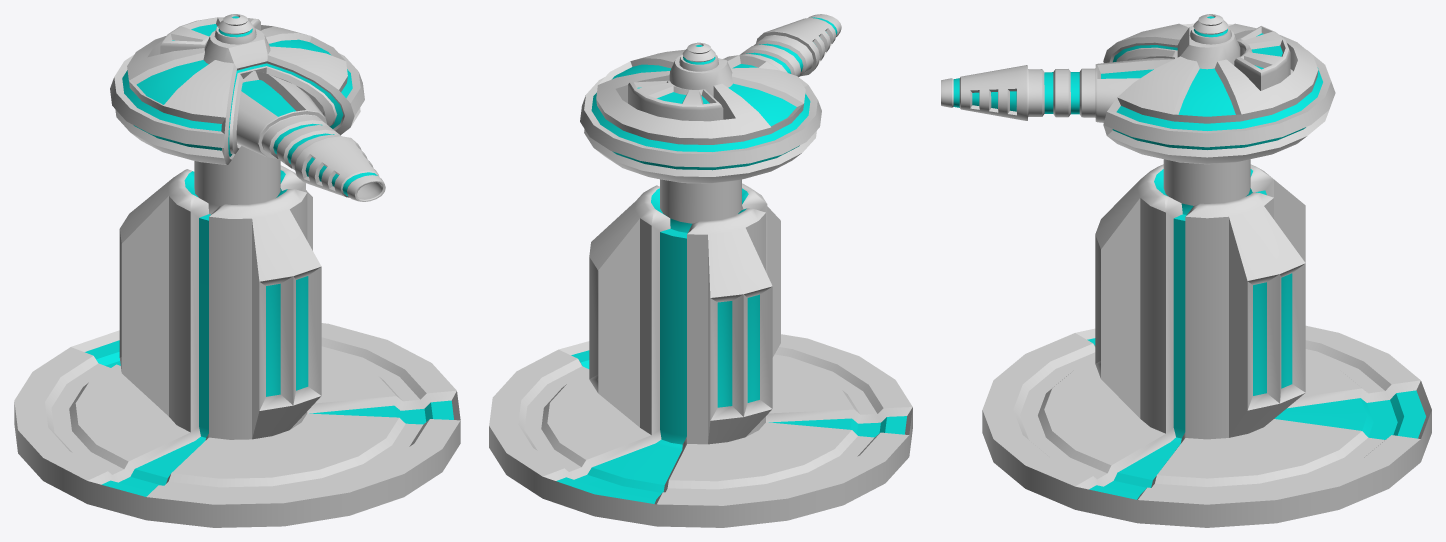
Rendered from AllySniper.fbx.
3 views of the same model, side by side, from view 1: azimuth 30°, elevation 25°; view 2: azimuth 150°, elevation 25°; view 3: azimuth 270°, elevation 25° (orthographic). The views are drawn at different scales.
Parts seen in each view (by area): view 1: AllySniper, Turret; view 2: AllySniper, Turret; view 3: AllySniper, Turret.
Part boxes in pixels (bbox=[...]): AllySniper: bbox=[14, 146, 460, 527]; Turret: bbox=[110, 14, 385, 201]; AllySniper: bbox=[489, 179, 912, 527]; Turret: bbox=[580, 14, 841, 183]; AllySniper: bbox=[982, 159, 1431, 527]; Turret: bbox=[941, 14, 1335, 164].
Bounding box in the file's own units: 350 × 358 × 382.
